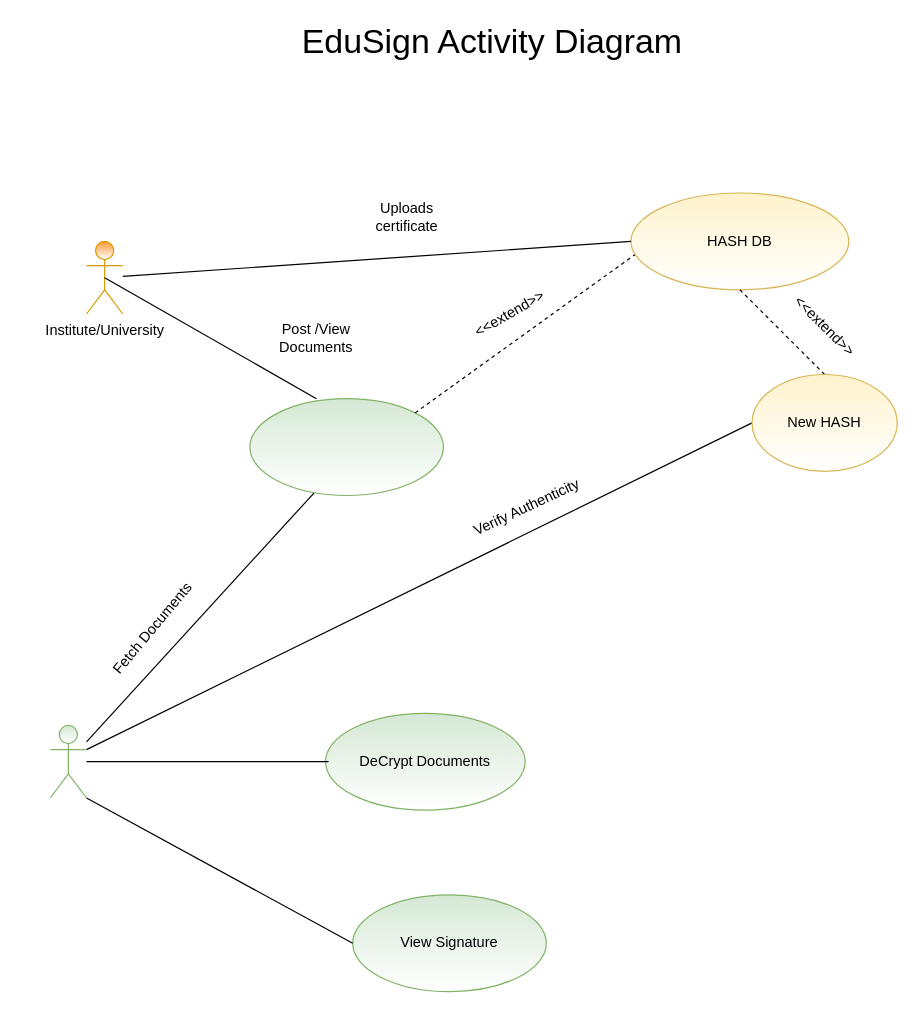
Image size: 918x1013. Some labels were removed from this diagram. Here are the shapes that lost their labels. From the top down, the centre of each, then its label:
the point at 346,446: Document Storage
the point at 68,761: Verifying Entity
